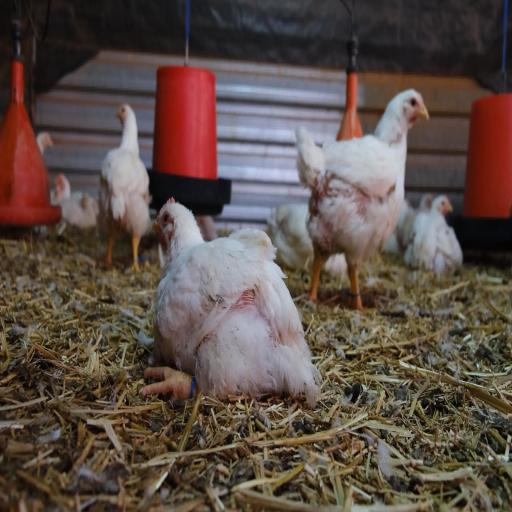healthy: (148, 185, 184, 254), (397, 81, 434, 140)
